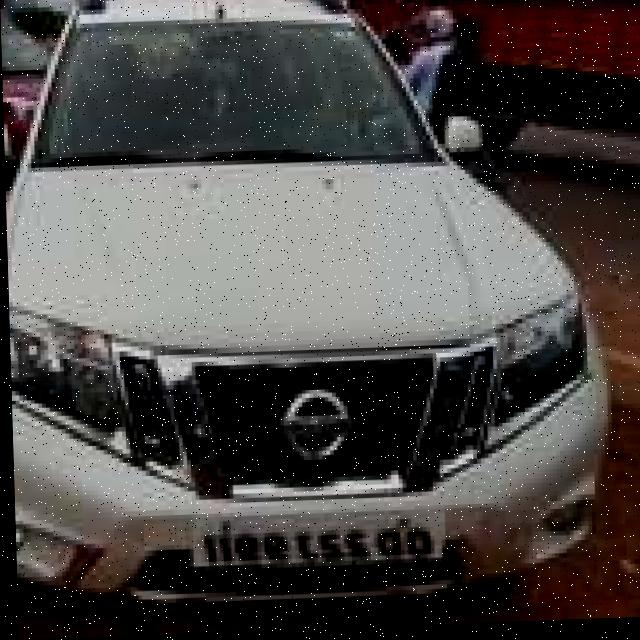plate: (186, 505, 439, 578)
